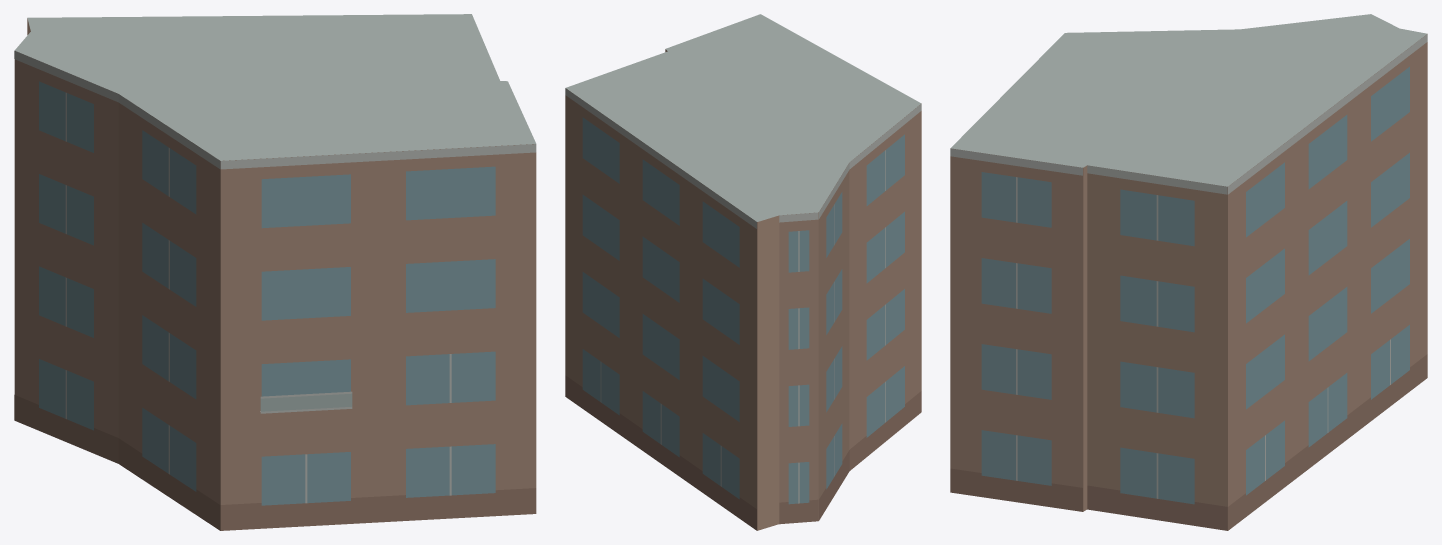
The model's file is survey-upis-33015622.glb.
The picture shows the model from 3 angles, left to right: view 1: azimuth 30°, elevation 25°; view 2: azimuth 150°, elevation 25°; view 3: azimuth 270°, elevation 25°; orthographic projection. The views are drawn at different scales.
Parts seen in each view (by area): view 1: survey-upis-33015622.tmp; view 2: survey-upis-33015622.tmp; view 3: survey-upis-33015622.tmp.
Boxes of the visible parts, x1,y1,x2,y2 form: survey-upis-33015622.tmp: (14, 14, 536, 530); survey-upis-33015622.tmp: (565, 14, 921, 530); survey-upis-33015622.tmp: (950, 14, 1427, 530).
Size of the model in its own units: 11.31 by 10.5 by 13.21.
